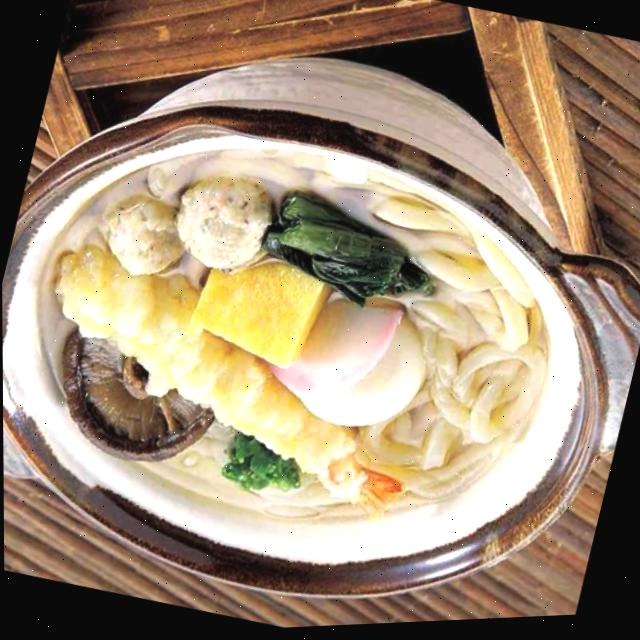面条主食: (0, 56, 614, 640)
